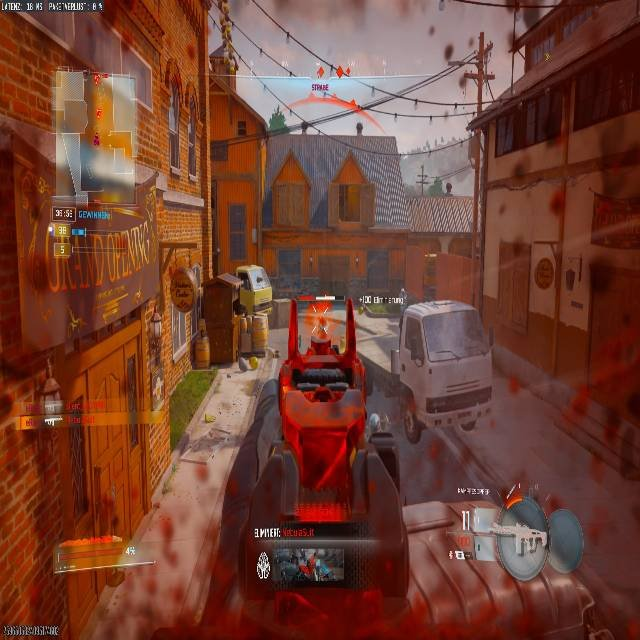player: (315, 311, 329, 339)
